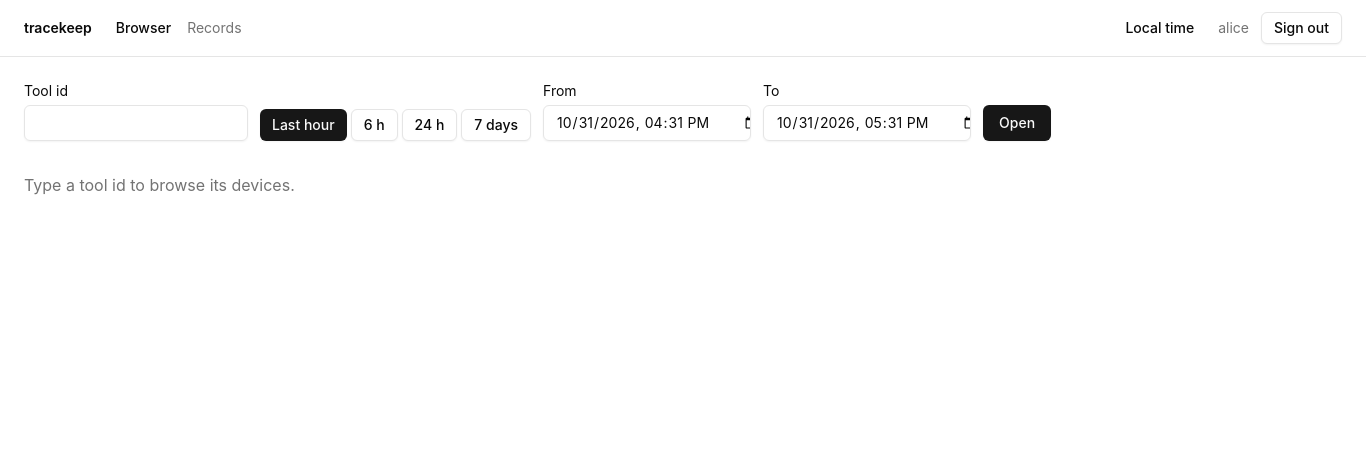
Test: sign-out posts to /auth/logout and shows the sign-in page
Click the button "Sign out" at x=1302, y=28, box [1261,12,1342,44]
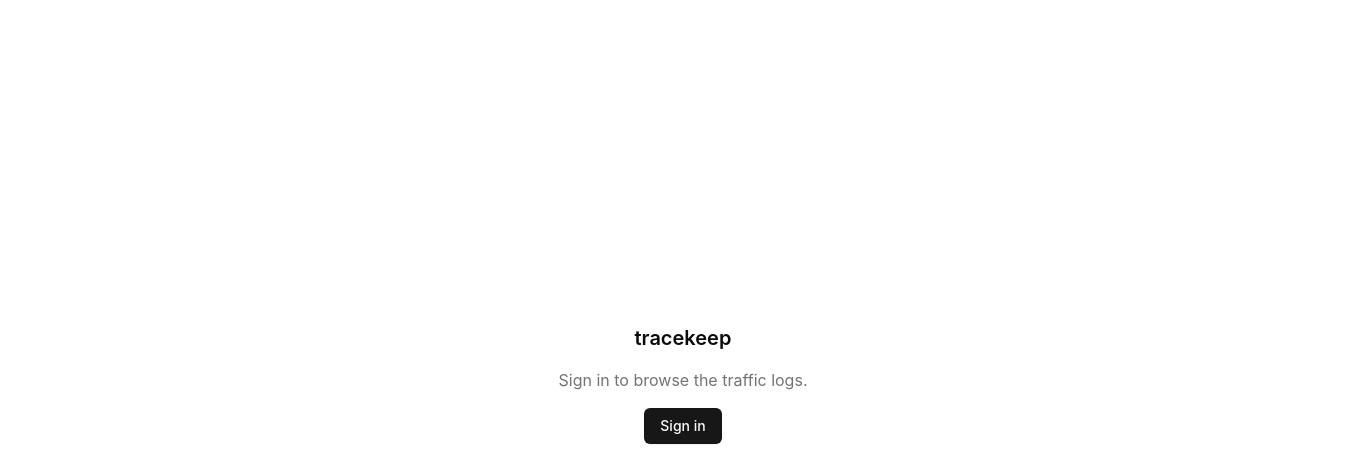
Expected: the link "Sign in" is shown, [644,408,722,444]
